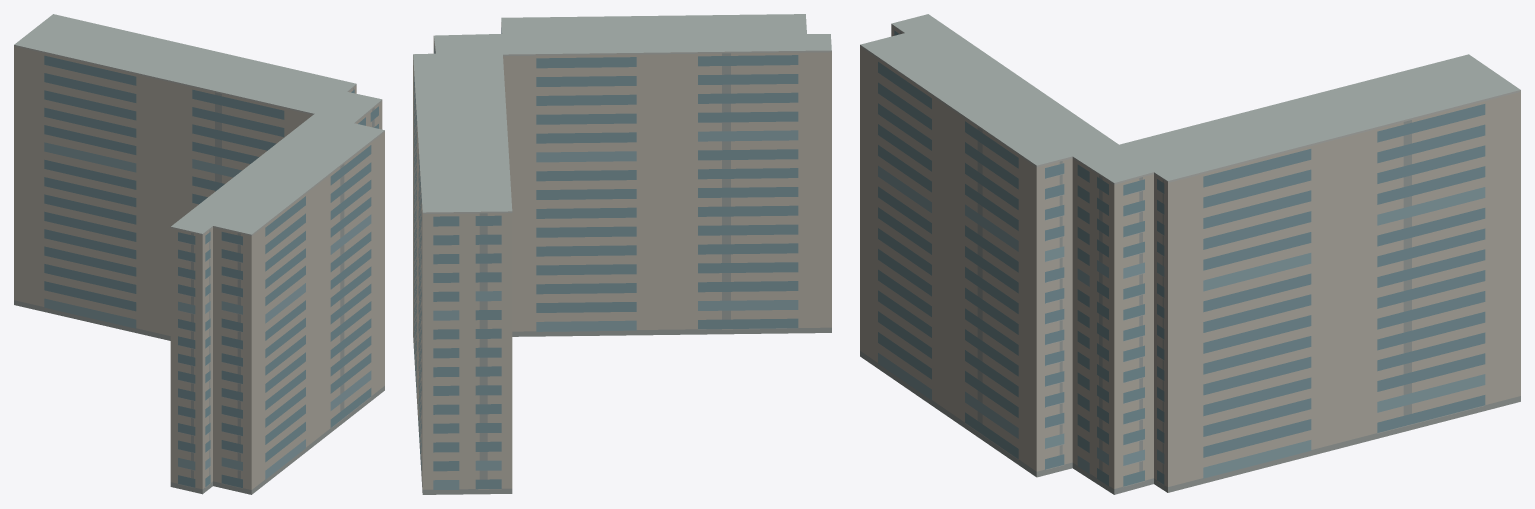
Rendered from residential-36de3e79-b718-4c48-adeb-fa25ce21a0a3.glb.
The picture shows the model from 3 angles, left to right: view 1: azimuth 30°, elevation 25°; view 2: azimuth 150°, elevation 25°; view 3: azimuth 270°, elevation 25°; orthographic projection. The views are drawn at different scales.
Parts seen in each view (by area): view 1: residential-36de3e79-b718-4c48-adeb-fa25ce21a0a3.tmp; view 2: residential-36de3e79-b718-4c48-adeb-fa25ce21a0a3.tmp; view 3: residential-36de3e79-b718-4c48-adeb-fa25ce21a0a3.tmp.
Boxes of the visible parts, x1,y1,x2,y2 form: residential-36de3e79-b718-4c48-adeb-fa25ce21a0a3.tmp: (14,14,384,494); residential-36de3e79-b718-4c48-adeb-fa25ce21a0a3.tmp: (413,14,831,494); residential-36de3e79-b718-4c48-adeb-fa25ce21a0a3.tmp: (860,14,1520,494).
Size of the model in its own units: 48.86 by 42 by 80.66.
